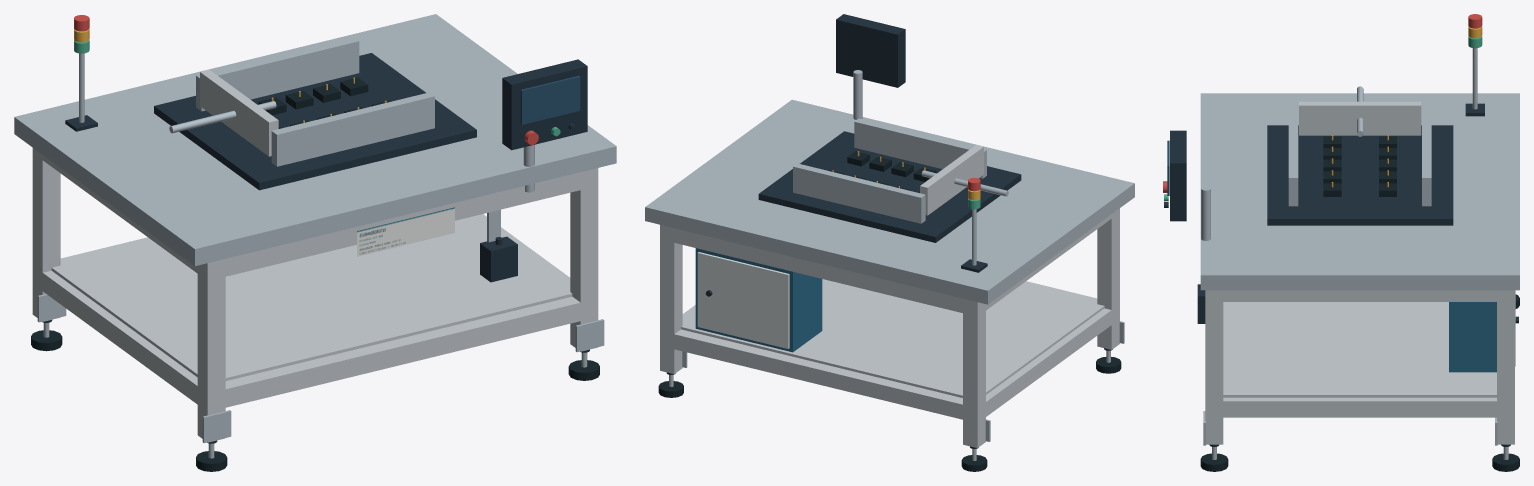
Rendered from in-circuit-tester.glb.
The picture shows the model from 3 angles, left to right: view 1: azimuth 30°, elevation 25°; view 2: azimuth 150°, elevation 25°; view 3: azimuth 270°, elevation 25°; orthographic projection. The views are drawn at different scales.
Parts seen in each view (by area): view 1: ClosedMachineBed_28, LowerShelf_29, FixtureBase_48, SlottedExtrusion_22, FixedJaw_50, SlottedExtrusion_23, FixedJaw_49, SlottedExtrusion_8, SlottedExtrusion_24, ConsoleBack_34, SlottedExtrusion_18, SlottedExtrusion_3 (+9 smaller); view 2: ClosedMachineBed_28, LowerShelf_29, FixtureBase_48, BackDoor_31, SlottedExtrusion_20, SlottedExtrusion_21, ConsoleBack_34, FixedJaw_49, FixedJaw_50, SlottedExtrusion_3, Cabinet_30, SlottedExtrusion_13 (+4 smaller); view 3: ClosedMachineBed_28, LowerShelf_29, FixtureBase_48, SlottedExtrusion_26, MovingJaw_51, Cabinet_30, SlottedExtrusion_27, SlottedExtrusion_18, SlottedExtrusion_13, ConsoleBack_34, FixedJaw_50, FixedJaw_49 (+3 smaller).
Part boxes in pixels (x1=…): ClosedMachineBed_28: x1=14, y1=14, x2=616, y2=265; LowerShelf_29: x1=51, y1=215, x2=572, y2=380; FixtureBase_48: x1=154, y1=53, x2=476, y2=190; SlottedExtrusion_22: x1=216, y1=296, x2=589, y2=407; FixedJaw_50: x1=271, y1=92, x2=434, y2=166; SlottedExtrusion_23: x1=216, y1=170, x2=589, y2=278; FixedJaw_49: x1=196, y1=37, x2=359, y2=111; SlottedExtrusion_8: x1=197, y1=259, x2=225, y2=442; SlottedExtrusion_24: x1=37, y1=269, x2=202, y2=407; ConsoleBack_34: x1=502, y1=59, x2=587, y2=150; SlottedExtrusion_18: x1=570, y1=168, x2=598, y2=351; SlottedExtrusion_3: x1=32, y1=148, x2=60, y2=321; ClosedMachineBed_28: x1=645, y1=99, x2=1134, y2=304; LowerShelf_29: x1=681, y1=279, x2=1104, y2=397; FixtureBase_48: x1=758, y1=131, x2=1021, y2=242; BackDoor_31: x1=697, y1=252, x2=789, y2=348; SlottedExtrusion_20: x1=667, y1=329, x2=970, y2=420; SlottedExtrusion_21: x1=667, y1=227, x2=970, y2=314; ConsoleBack_34: x1=836, y1=14, x2=905, y2=87; FixedJaw_49: x1=793, y1=163, x2=925, y2=223; FixedJaw_50: x1=854, y1=118, x2=986, y2=178; SlottedExtrusion_3: x1=963, y1=298, x2=985, y2=447; Cabinet_30: x1=695, y1=248, x2=822, y2=352; SlottedExtrusion_13: x1=660, y1=225, x2=682, y2=374; ClosedMachineBed_28: x1=1200, y1=93, x2=1519, y2=290; LowerShelf_29: x1=1223, y1=302, x2=1496, y2=397; FixtureBase_48: x1=1267, y1=125, x2=1453, y2=225; SlottedExtrusion_26: x1=1215, y1=397, x2=1499, y2=417; MovingJaw_51: x1=1299, y1=101, x2=1421, y2=135; Cabinet_30: x1=1449, y1=302, x2=1496, y2=372; SlottedExtrusion_27: x1=1214, y1=290, x2=1505, y2=301; SlottedExtrusion_18: x1=1205, y1=290, x2=1223, y2=444; SlottedExtrusion_13: x1=1497, y1=290, x2=1514, y2=444; ConsoleBack_34: x1=1170, y1=130, x2=1186, y2=221; FixedJaw_50: x1=1288, y1=110, x2=1298, y2=206; FixedJaw_49: x1=1422, y1=110, x2=1431, y2=206.
Bounding box in the file's own units: 1.55 × 1.18 × 1.29.
11 materials, 1 textured.
